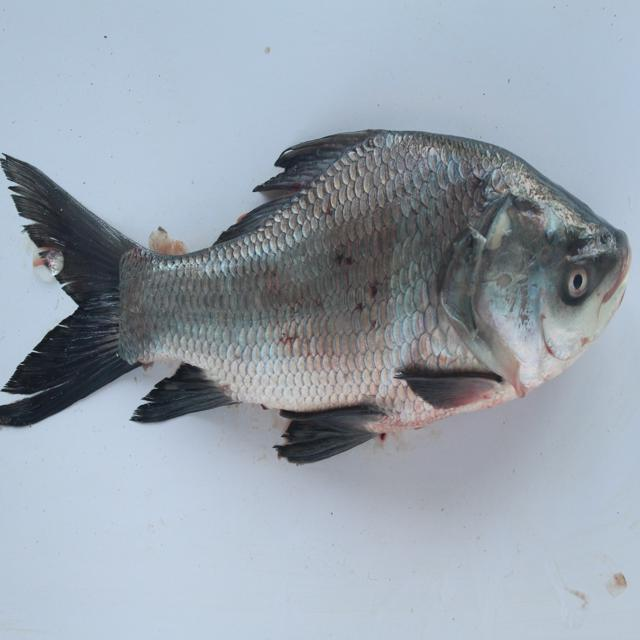Catla: (2, 128, 640, 469)
